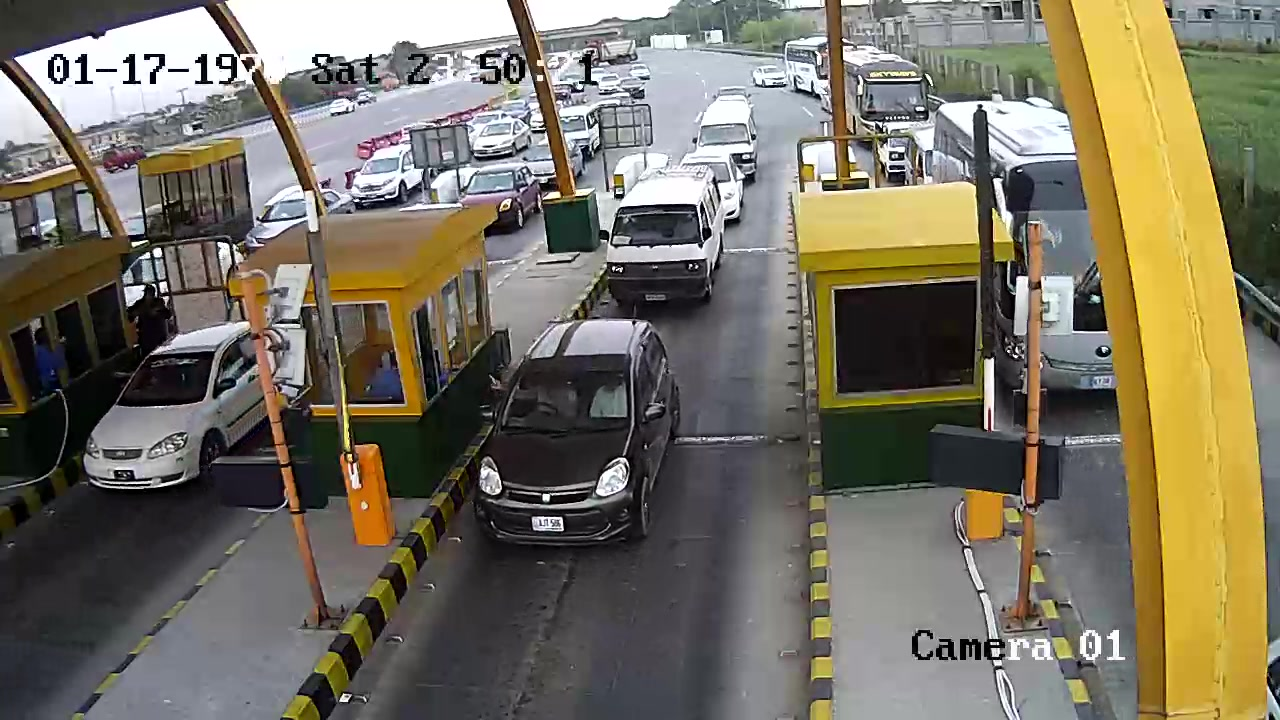F1: (468, 313, 691, 561)
